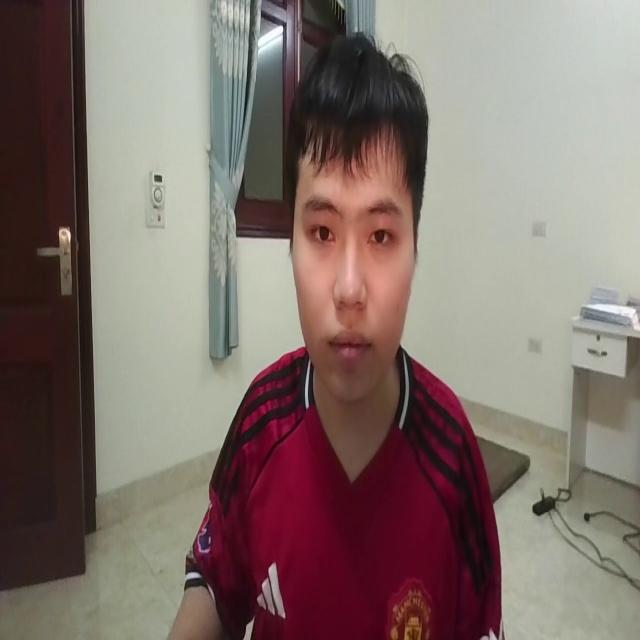student: (146, 22, 507, 640)
